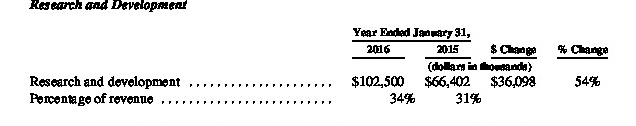table: (0, 0, 636, 126)
